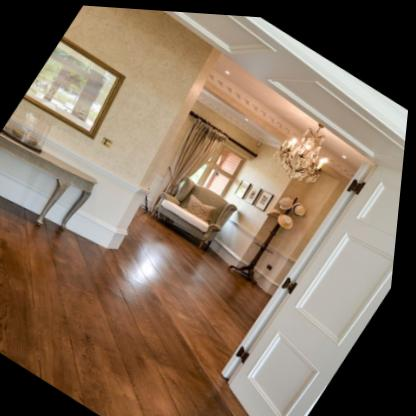Wooden floor: (0, 197, 274, 416)
